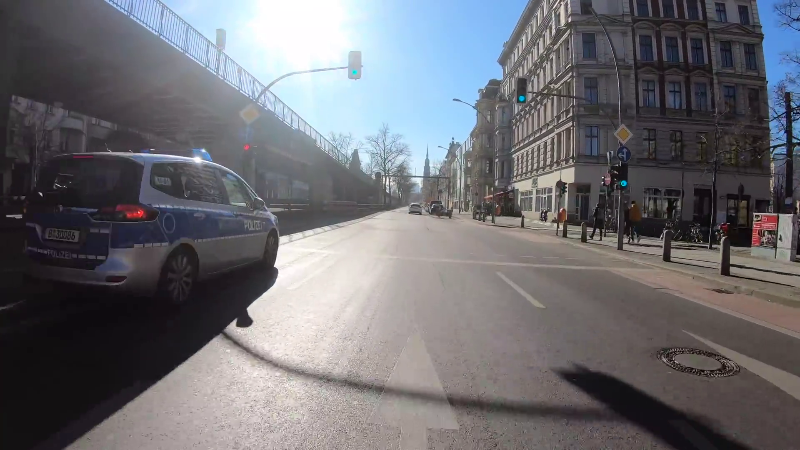Plate: (43, 227, 83, 244)
